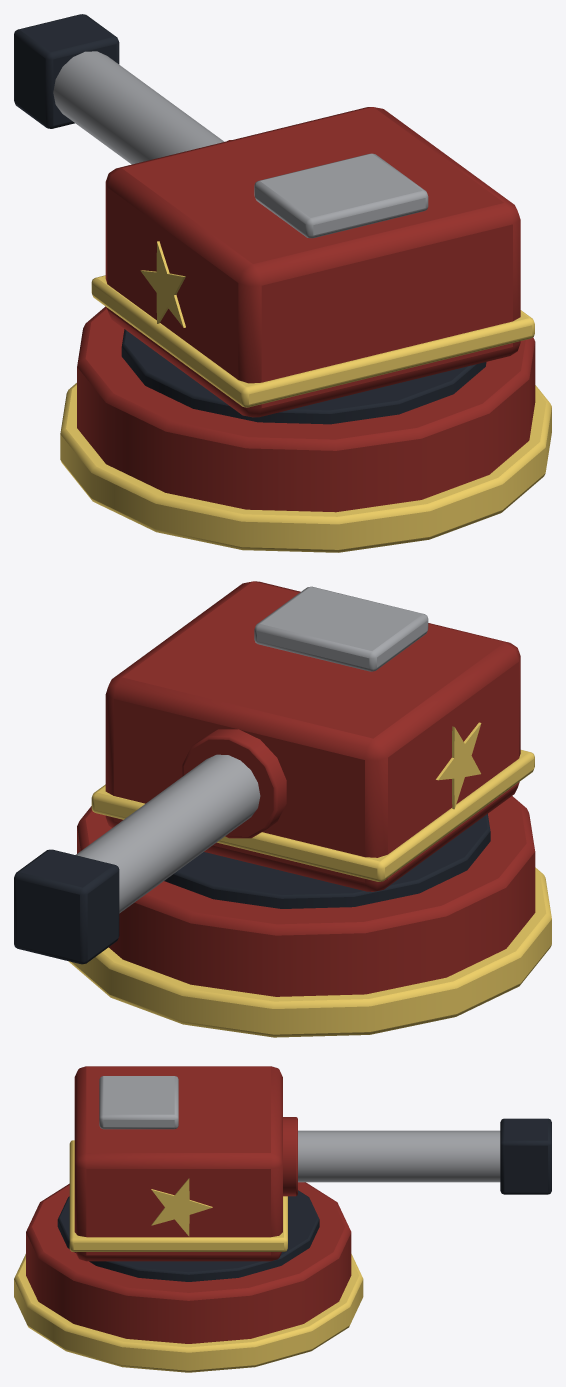
Rendered from baeren_turret_ground.glb.
3 views of the same model, one above another, from view 1: azimuth 30°, elevation 25°; view 2: azimuth 150°, elevation 25°; view 3: azimuth 270°, elevation 25° (orthographic). The views are drawn at different scales.
Parts seen in each view (by area): view 1: head, base, base_ring, head_band, barrel, hatch, base_top, muzzle_brake, star_-1; view 2: head, base, base_ring, barrel, muzzle_brake, base_top, hatch, head_band, recoil, star_-1; view 3: head, base, base_ring, barrel, base_top, hatch, head_band, muzzle_brake, star_1, recoil.
Boxes of the visible parts, left/top/right/bottom form: head: left=105, top=107, right=520, bottom=417; base: left=77, top=306, right=535, bottom=512; base_ring: left=60, top=383, right=551, bottom=552; head_band: left=91, top=275, right=534, bottom=407; barrel: left=53, top=51, right=224, bottom=164; hatch: left=254, top=153, right=428, bottom=238; base_top: left=121, top=329, right=486, bottom=424; muzzle_brake: left=14, top=14, right=119, bottom=128; star_-1: left=140, top=241, right=185, bottom=327; head: left=105, top=581, right=520, bottom=891; base: left=77, top=796, right=535, bottom=996; base_ring: left=68, top=867, right=551, bottom=1037; barrel: left=75, top=754, right=260, bottom=913; muzzle_brake: left=14, top=849, right=119, bottom=964; base_top: left=164, top=814, right=490, bottom=908; hatch: left=254, top=586, right=428, bottom=671; head_band: left=91, top=750, right=534, bottom=881; recoil: left=182, top=729, right=286, bottom=838; star_-1: left=436, top=722, right=481, bottom=809; head: left=74, top=1066, right=282, bottom=1261; base: left=26, top=1182, right=351, bottom=1343; base_ring: left=14, top=1254, right=363, bottom=1372; barrel: left=298, top=1130, right=500, bottom=1182; base_top: left=57, top=1190, right=319, bottom=1281; hatch: left=99, top=1076, right=178, bottom=1129; head_band: left=69, top=1140, right=287, bottom=1251; muzzle_brake: left=500, top=1118, right=551, bottom=1194; star_1: left=151, top=1178, right=212, bottom=1236; recoil: left=283, top=1117, right=297, bottom=1196.
Bounding box in the file's own units: 1.76 × 1.17 × 2.71.
